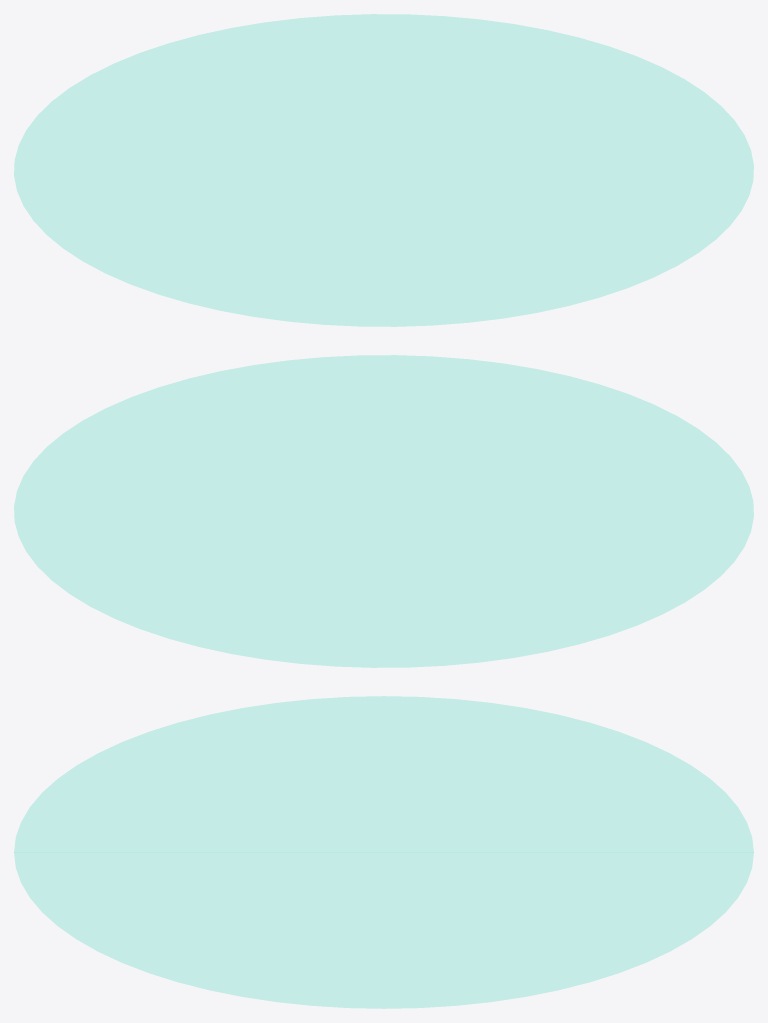
Rendered from media-spill.glb.
3 renders of one model, top to bottom at view 1: azimuth 30°, elevation 25°; view 2: azimuth 150°, elevation 25°; view 3: azimuth 270°, elevation 25°, orthographic.
Visible parts, largest first — view 1: hazard_media_spill; view 2: hazard_media_spill; view 3: hazard_media_spill.
Part boxes in pixels (x1,y1,x2,y2): hazard_media_spill: (14, 14, 753, 326); hazard_media_spill: (14, 355, 753, 667); hazard_media_spill: (14, 696, 753, 1008).
Size of the model in its own units: 2.9 by 6.44e-16 by 2.9.
